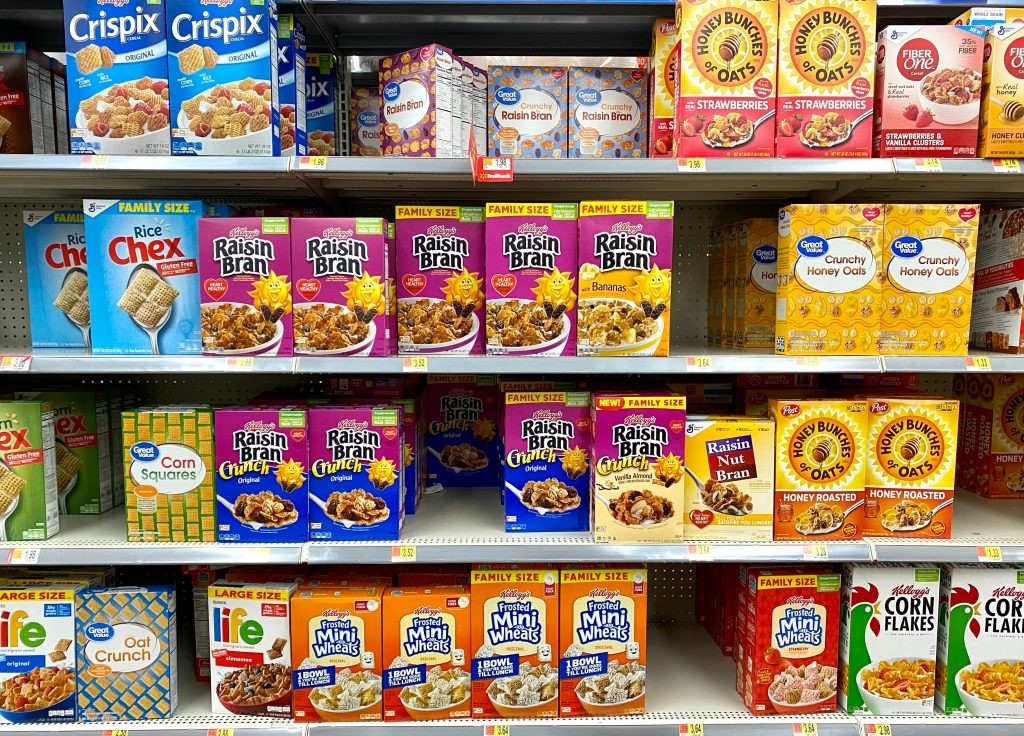cereal: (82, 199, 202, 355), (64, 4, 170, 158), (168, 2, 274, 154), (678, 1, 778, 155), (789, 207, 882, 357), (786, 1, 877, 154), (485, 205, 575, 357), (886, 208, 980, 353), (844, 577, 941, 715), (580, 204, 667, 357), (395, 209, 486, 355), (594, 399, 684, 543), (293, 220, 387, 357), (560, 575, 646, 723), (213, 412, 309, 543), (887, 26, 982, 158), (774, 402, 864, 538), (198, 223, 289, 357), (309, 412, 401, 543), (77, 598, 170, 725), (866, 403, 952, 540), (473, 578, 557, 717), (504, 393, 587, 529), (754, 578, 835, 717), (294, 601, 384, 725), (384, 599, 471, 726), (949, 574, 1024, 718), (684, 422, 774, 540), (212, 596, 288, 715), (425, 372, 498, 491)
